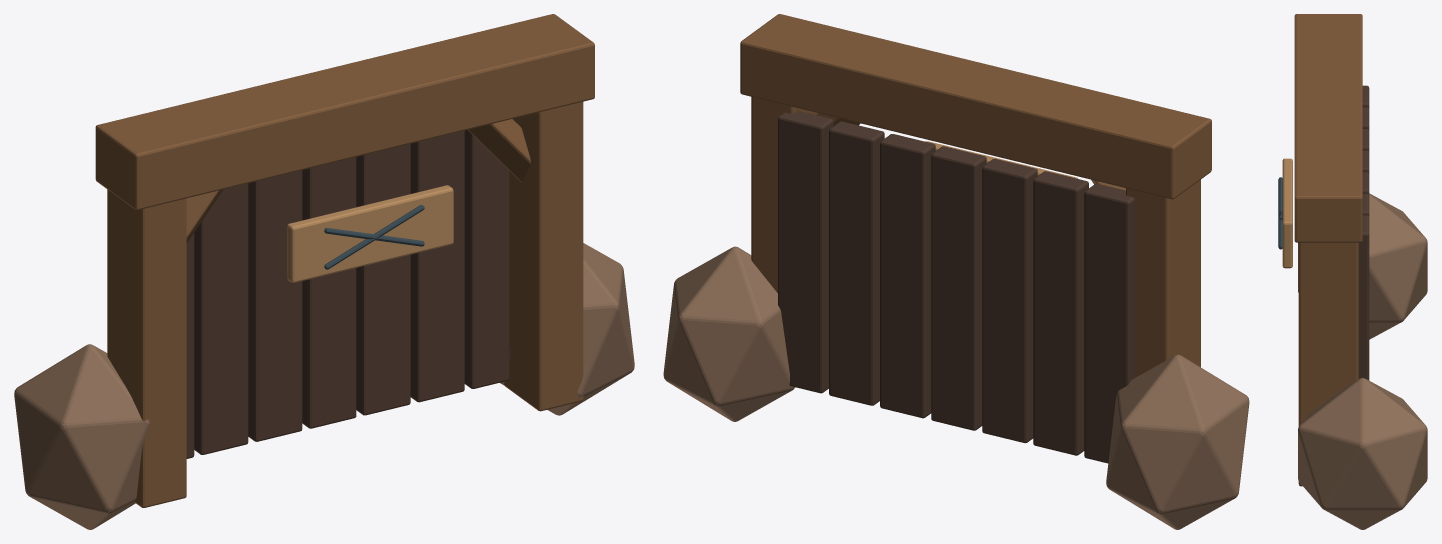
Rendered from mine_portal.glb.
3 renders of one model, left to right at view 1: azimuth 30°, elevation 25°; view 2: azimuth 150°, elevation 25°; view 3: azimuth 270°, elevation 25°, orthographic. The views are drawn at different scales.
Visible parts, largest first — view 1: TimberPillar, SealedTimber, RockFall, WarningBoard, CrossedTools; view 2: SealedTimber, TimberPillar, RockFall; view 3: TimberPillar, RockFall, SealedTimber, WarningBoard, CrossedTools.
Boxes of the visible parts, left/top/right/bottom form: TimberPillar: left=95, top=14, right=594, bottom=507; SealedTimber: left=186, top=130, right=509, bottom=458; RockFall: left=14, top=243, right=634, bottom=529; WarningBoard: left=287, top=185, right=453, bottom=282; CrossedTools: left=324, top=205, right=424, bottom=269; SealedTimber: left=778, top=110, right=1134, bottom=463; TimberPillar: left=740, top=14, right=1211, bottom=377; RockFall: left=663, top=246, right=1249, bottom=529; TimberPillar: left=1294, top=14, right=1362, bottom=486; RockFall: left=1298, top=193, right=1427, bottom=529; SealedTimber: left=1358, top=85, right=1369, bottom=380; WarningBoard: left=1282, top=158, right=1292, bottom=268; CrossedTools: left=1278, top=177, right=1282, bottom=249.
Bounding box in the file's own units: 6.61 × 4.28 × 1.75.
